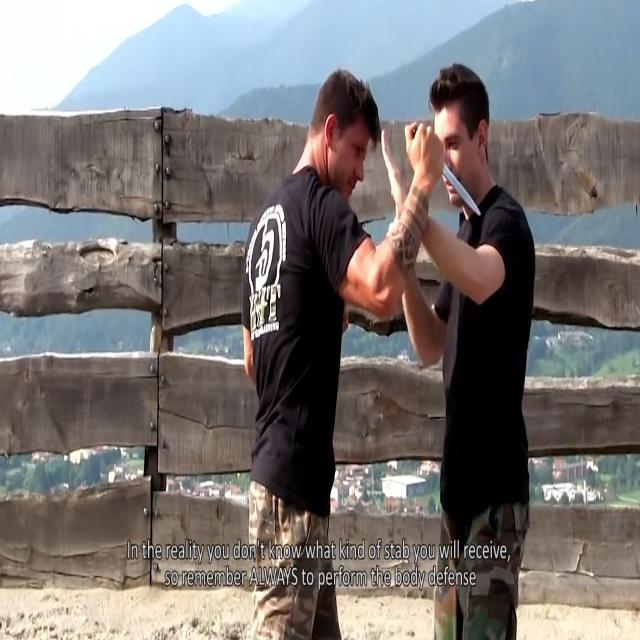knife: (442, 162, 484, 224)
